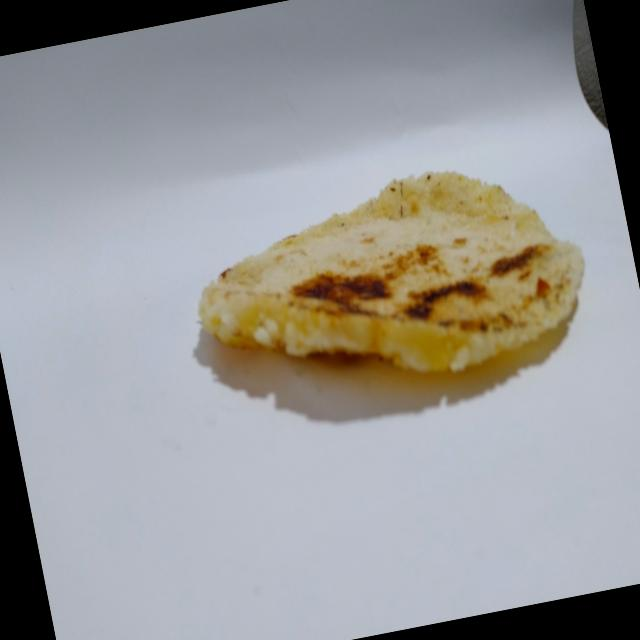Mbeju: (164, 129, 610, 439)
